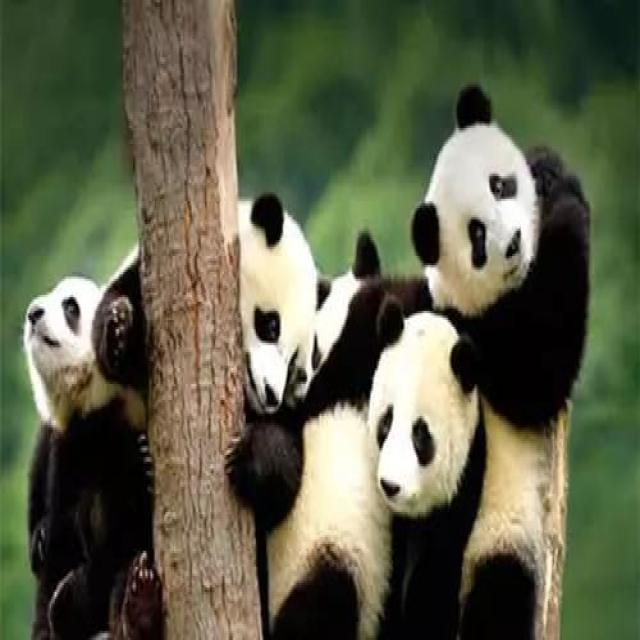panda: (239, 75, 598, 640), (15, 207, 176, 640)
